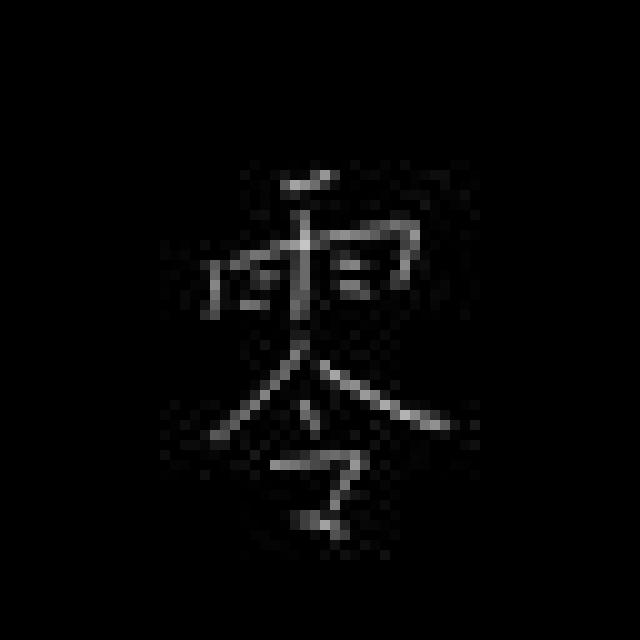0 -zero-: (186, 161, 462, 555)
